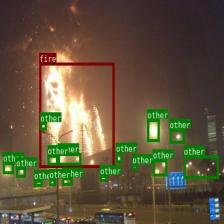fire: (39, 62, 114, 167)
